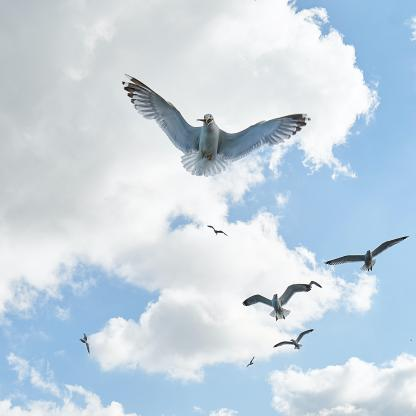bird: (121, 73, 311, 177), (324, 236, 410, 272), (242, 284, 312, 321), (273, 329, 314, 350), (79, 332, 91, 354), (298, 280, 323, 290), (207, 226, 229, 236), (245, 356, 254, 368), (410, 339, 412, 341)
